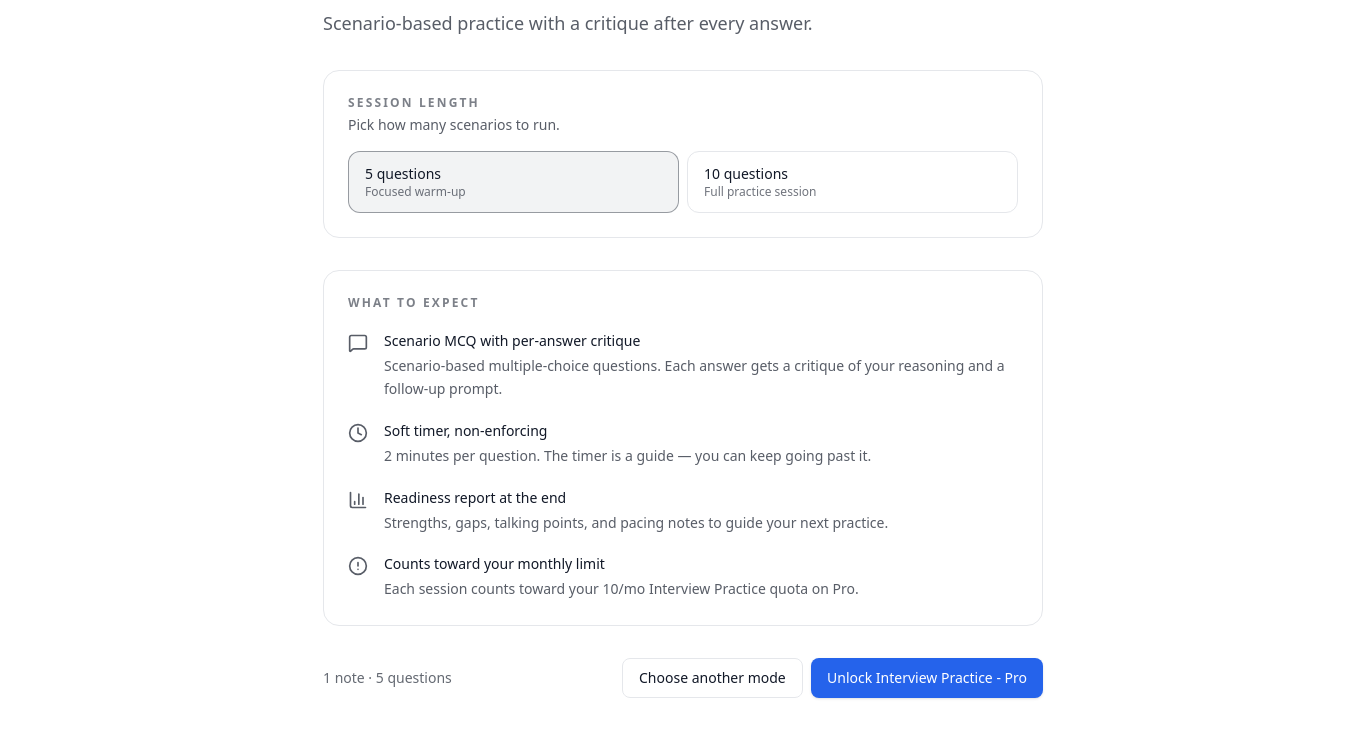
Scenario: InterviewPracticePage › shows Interview Practice setup to Professional Plus users and opens the paywall from the Start CTA
(page scrolled)
Check: the heading "Session length" is shown, box left=348, top=94, right=480, bottom=111
Check: the dialog "Prepare for the part that isn't a quiz" is not shown
Click the button "Unlock Interview Practice - Pro" at [927, 678], box left=811, top=658, right=1043, bottom=698
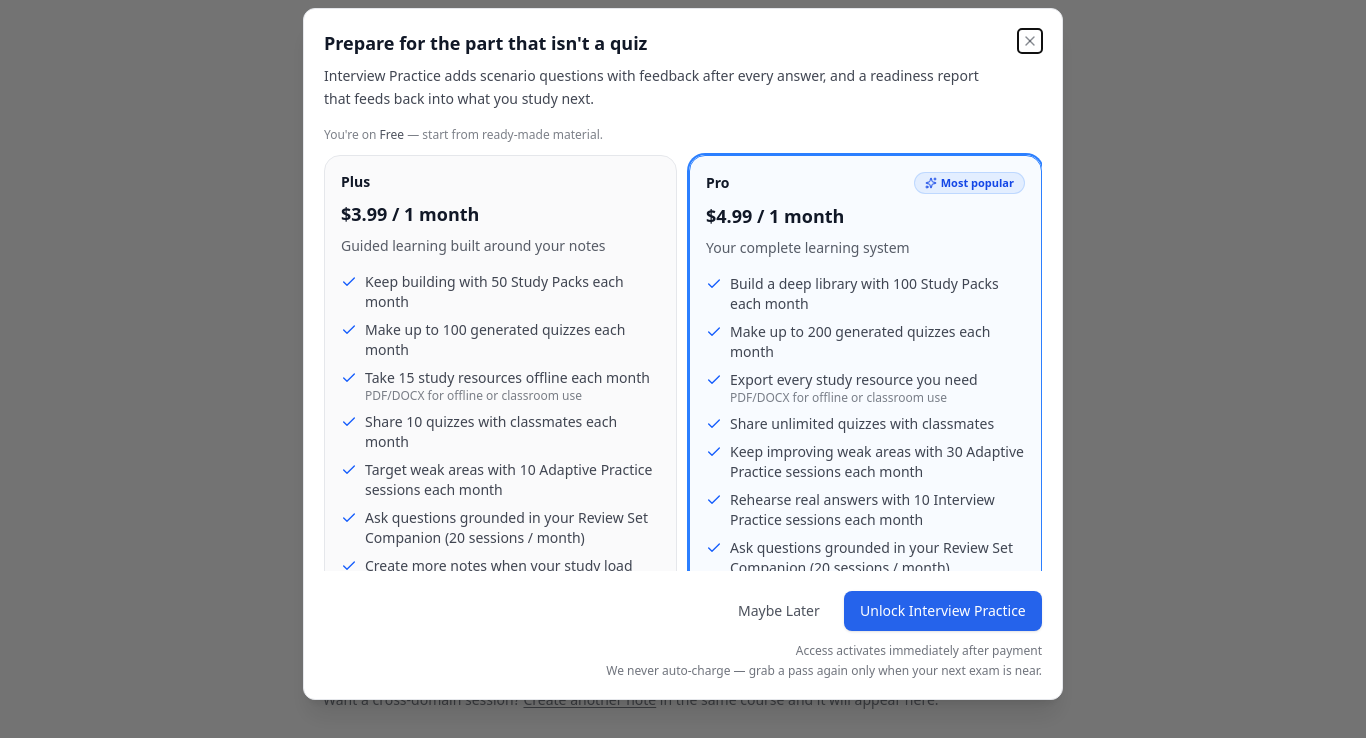
Check: the dialog "Prepare for the part that isn't a quiz" is shown, box left=303, top=8, right=1063, bottom=700
